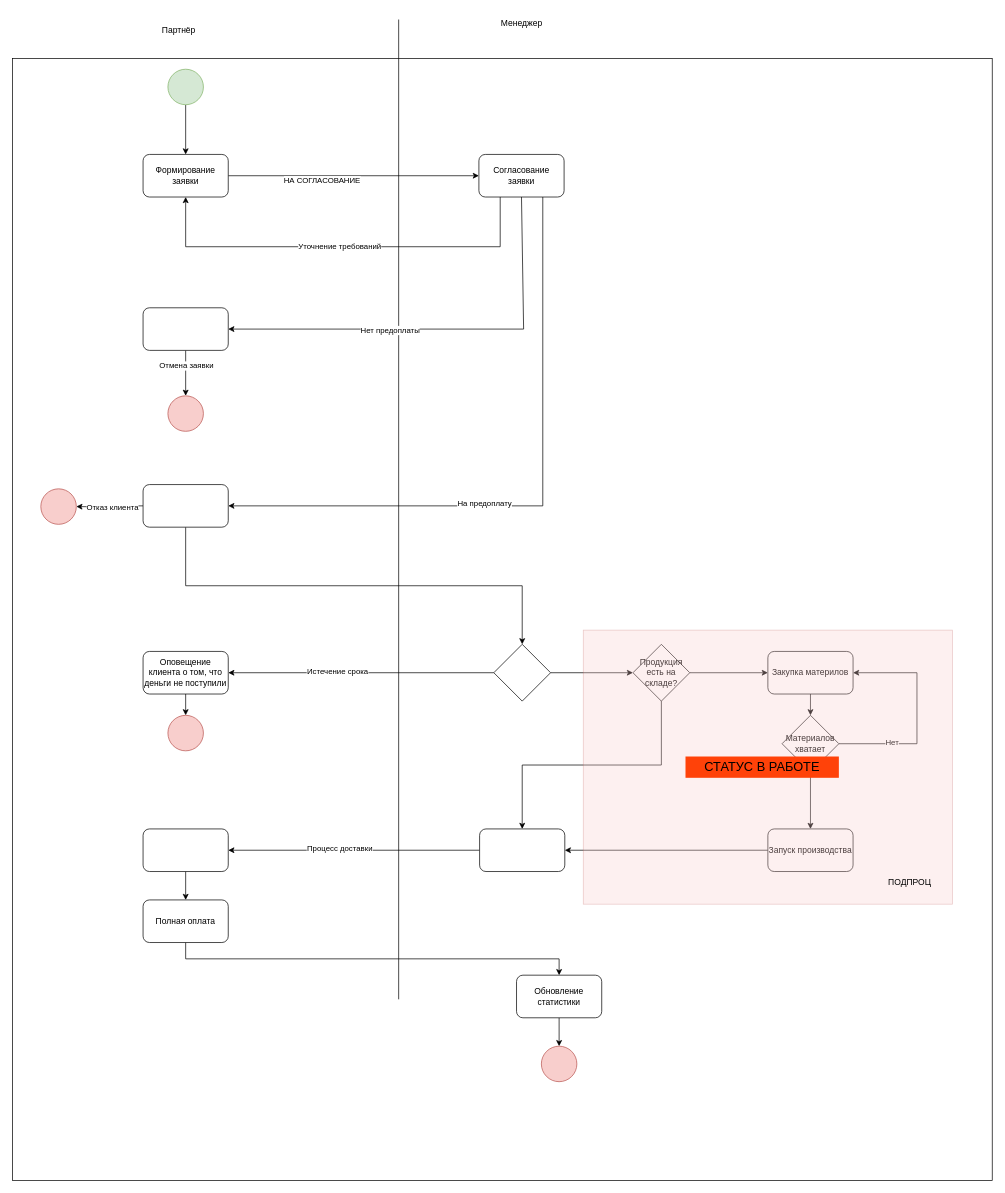
The diagram is 1005 pixels wide and 1193 high, and some of its shapes have lost their labels. Here are the shapes that lost their labels. From the top down, the box of each, then its label:
(142, 307, 228, 350): Не согласовано
(142, 484, 228, 527): Внесение предоплаты
(493, 644, 551, 701): Получена предоплата
(142, 828, 228, 872): Проверка качества
(479, 828, 565, 872): Готово к отгрузке
